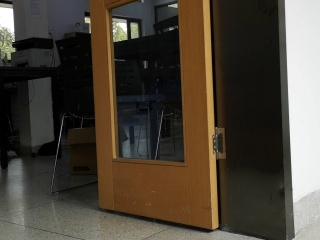room: (88, 4, 294, 238)
